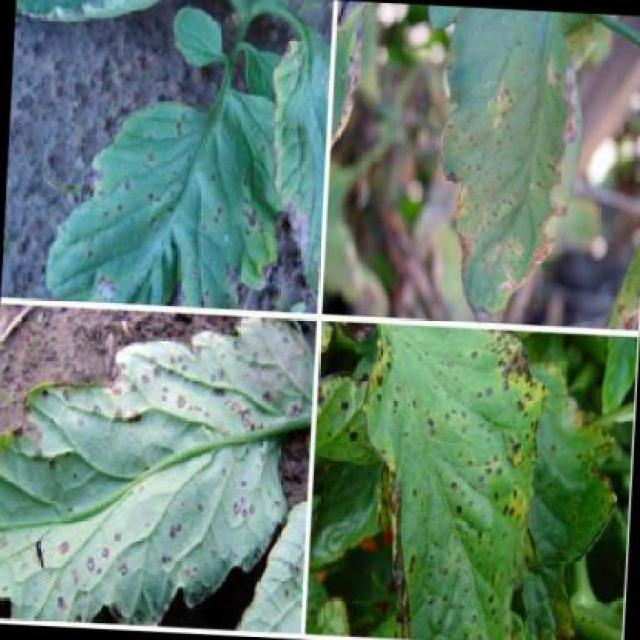Tomato leaf bacterial spot: (0, 308, 302, 628), (337, 318, 551, 636), (46, 29, 283, 305), (414, 17, 583, 325)
